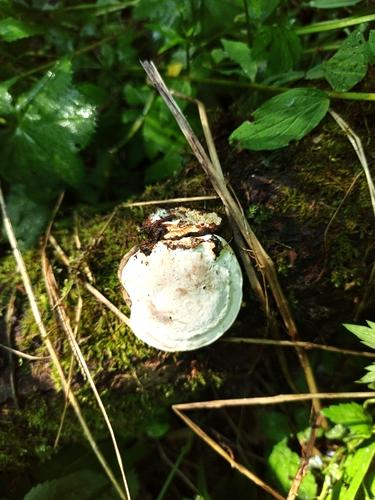Ganoderma - Fruit Body: (117, 226, 244, 352)
